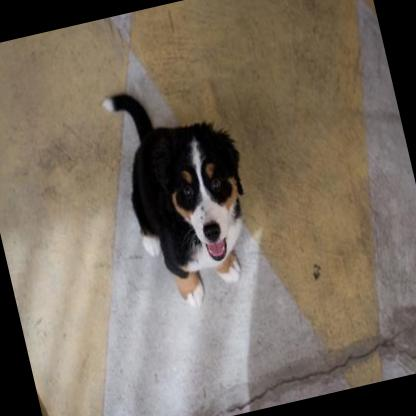Bernese_mountain_dog: (96, 70, 270, 316)
